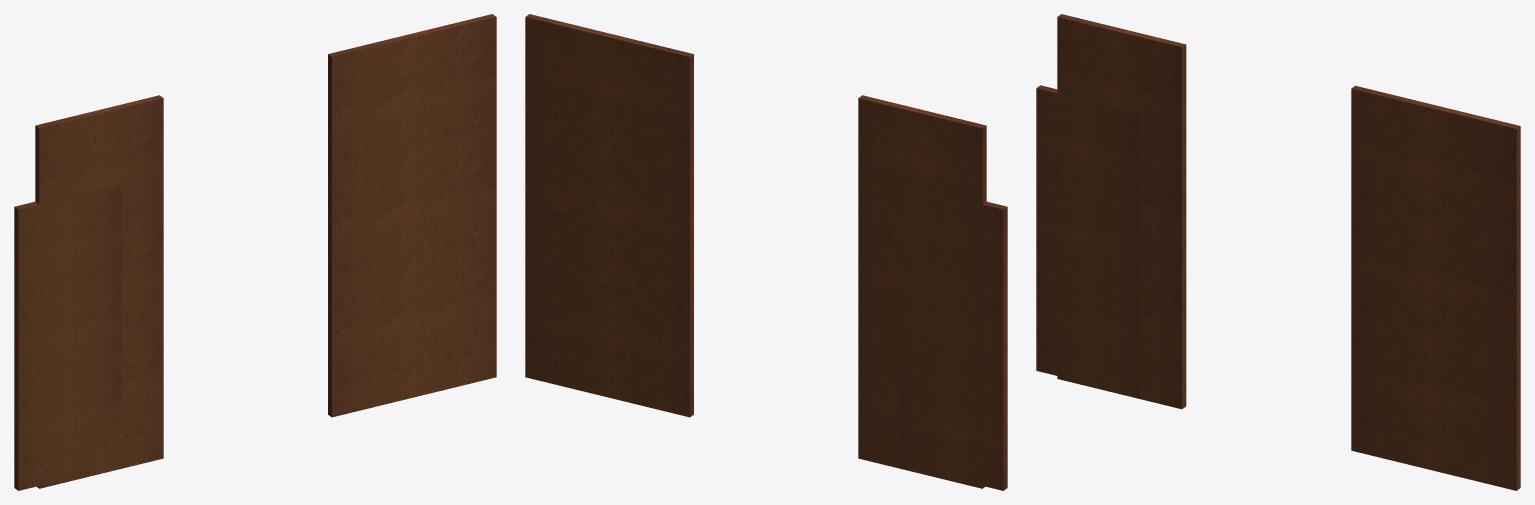
File: wdoorway.obj
3 views of the same model, side by side, from view 1: azimuth 30°, elevation 25°; view 2: azimuth 150°, elevation 25°; view 3: azimuth 330°, elevation 25° (orthographic).
Visible parts, largest first — view 1: Cube_Cube.001_Cube_Cube.002_Cube_Cube.001_Cube_Cube.004, Cube_Cube.001_Cube_Cube.006, Cube_Cube.001_Cube_Cube.001_Cube_Cube.001_Cube_Cube.003; view 2: Cube_Cube.001_Cube_Cube.002_Cube_Cube.001_Cube_Cube.004, Cube_Cube.001_Cube_Cube.001_Cube_Cube.001_Cube_Cube.003, Cube_Cube.001_Cube_Cube.006; view 3: Cube_Cube.001_Cube_Cube.002_Cube_Cube.001_Cube_Cube.004, Cube_Cube.001_Cube_Cube.006, Cube_Cube.001_Cube_Cube.001_Cube_Cube.001_Cube_Cube.003.
Part boxes in pixels (x1,y1,x2,y2): Cube_Cube.001_Cube_Cube.002_Cube_Cube.001_Cube_Cube.004: (328, 14, 496, 417); Cube_Cube.001_Cube_Cube.006: (14, 184, 121, 490); Cube_Cube.001_Cube_Cube.001_Cube_Cube.001_Cube_Cube.003: (35, 95, 163, 488); Cube_Cube.001_Cube_Cube.002_Cube_Cube.001_Cube_Cube.004: (525, 14, 693, 417); Cube_Cube.001_Cube_Cube.001_Cube_Cube.001_Cube_Cube.003: (858, 95, 986, 488); Cube_Cube.001_Cube_Cube.006: (900, 186, 1007, 490); Cube_Cube.001_Cube_Cube.002_Cube_Cube.001_Cube_Cube.004: (1351, 85, 1520, 490); Cube_Cube.001_Cube_Cube.006: (1036, 85, 1140, 395); Cube_Cube.001_Cube_Cube.001_Cube_Cube.001_Cube_Cube.003: (1057, 14, 1186, 409).
Bounding box in the file's own units: 26.29 × 18.93 × 0.3897.
